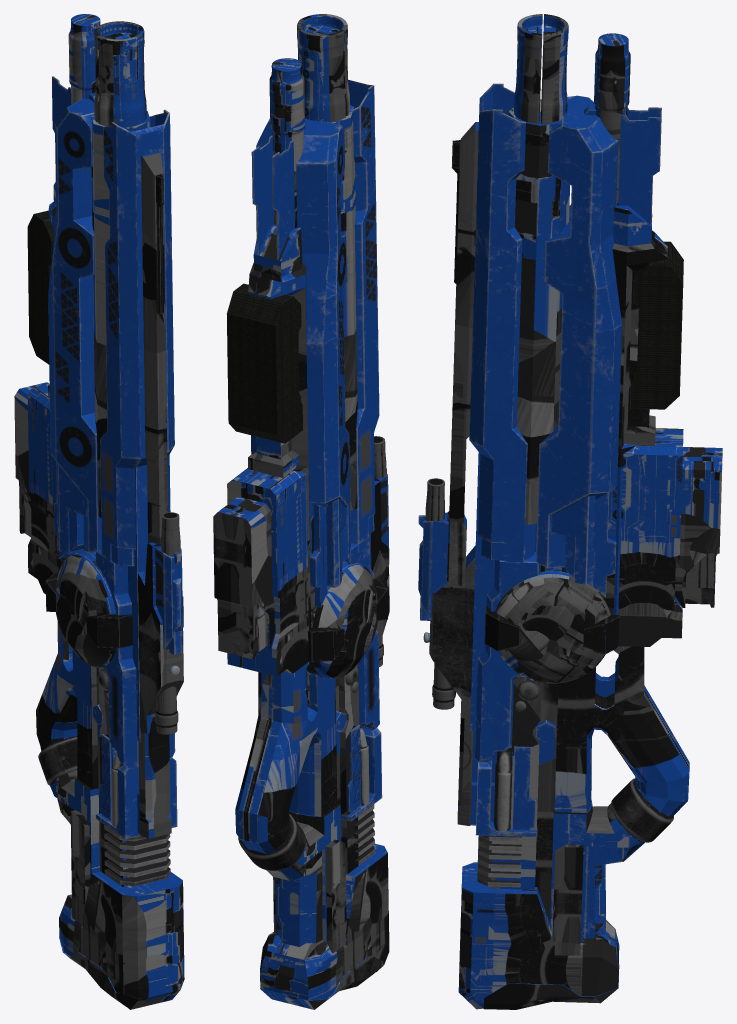
3 renders of one model, left to right at view 1: azimuth 30°, elevation 25°; view 2: azimuth 150°, elevation 25°; view 3: azimuth 270°, elevation 25°, orthographic. The views are drawn at different scales.
Parts seen in each view (by area): view 1: 3D_Sci_fi_Rifle__corona; view 2: 3D_Sci_fi_Rifle__corona; view 3: 3D_Sci_fi_Rifle__corona.
Part boxes in pixels (left/top/right/bottom): 3D_Sci_fi_Rifle__corona: left=14, top=14, right=184, bottom=1009; 3D_Sci_fi_Rifle__corona: left=213, top=14, right=389, bottom=1009; 3D_Sci_fi_Rifle__corona: left=418, top=14, right=722, bottom=1009.
Bounding box in the file's own units: 32.56 × 341 × 96.6.
1 material, 1 textured.
